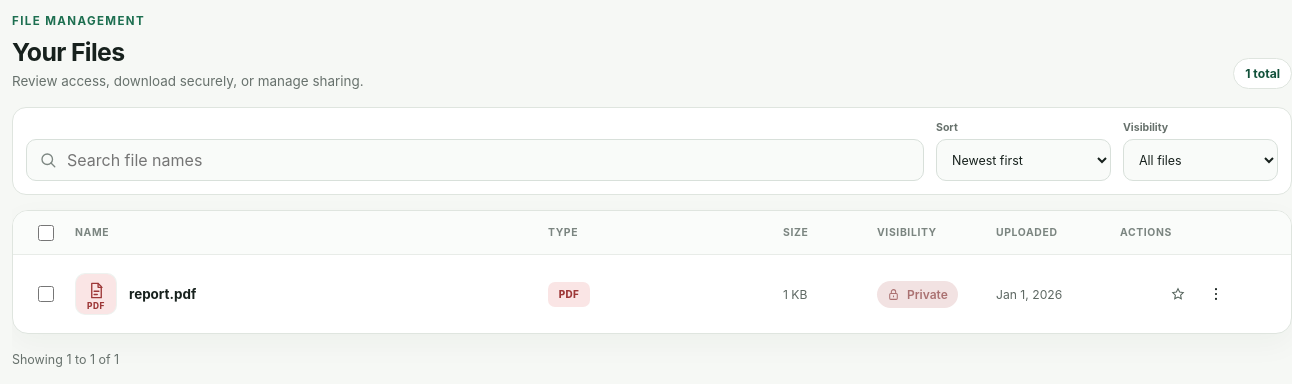
it: FileList professional table and pagination › downloads from the menu and closes it after selection
The image size is (1292, 384).
Click the button named "Open actions for report.pdf" at (1216, 294), box [1200,277,1232,311]
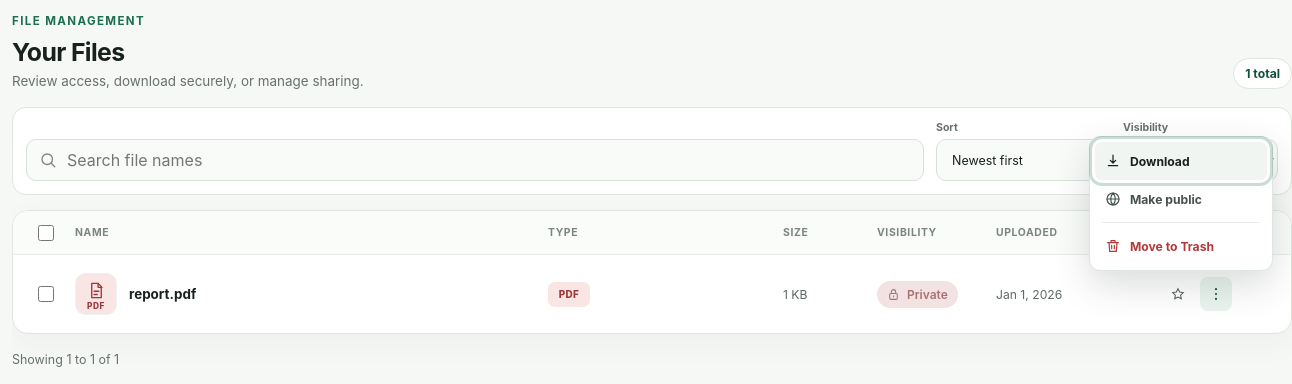
Click the menu item "Download" at (1181, 161), box [1095,142,1267,180]
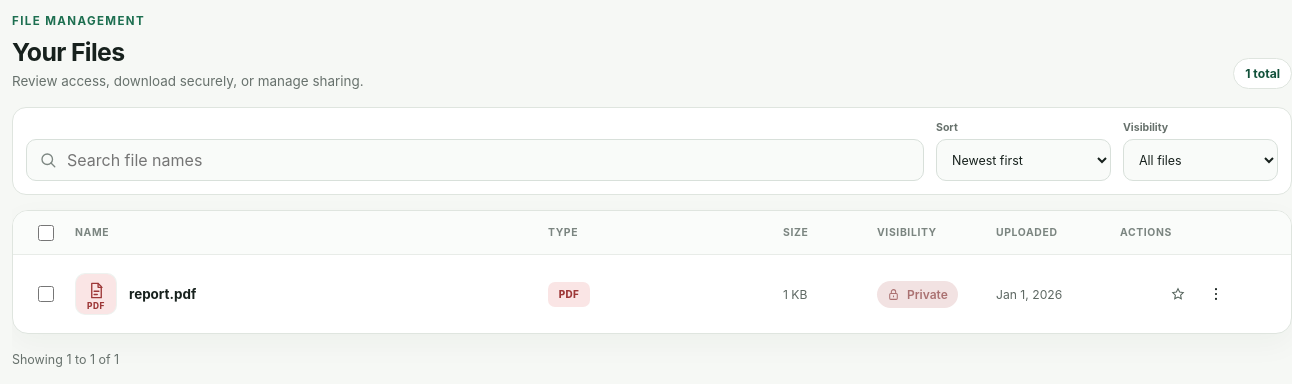
Expected: the menu is gone
